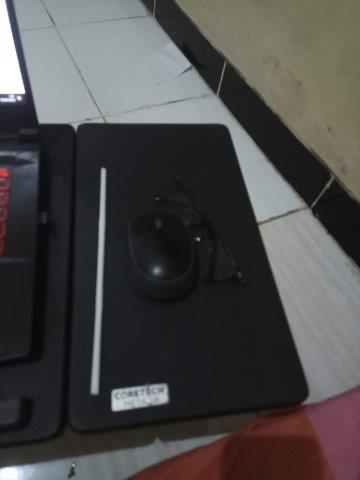sedotan: (90, 167, 106, 393)
